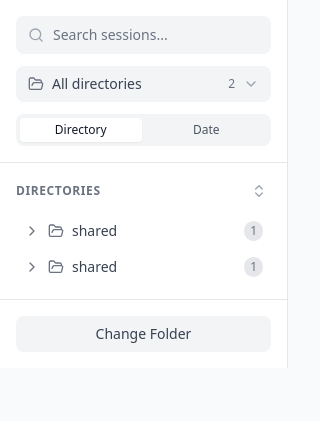
SessionBrowser › projectId as key for directory groups › expands groups independently when they have the same directory but different projectIds
The image size is (320, 421).
Note: Expand only the first one
Click the button with aria-label "Expand shared" at (144, 231), box [16, 215, 271, 247]
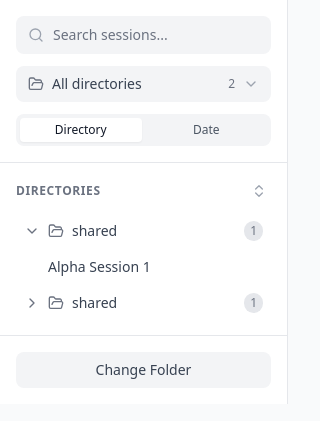
Now the text "Alpha Session 1" is shown, box [48, 257, 151, 276]
